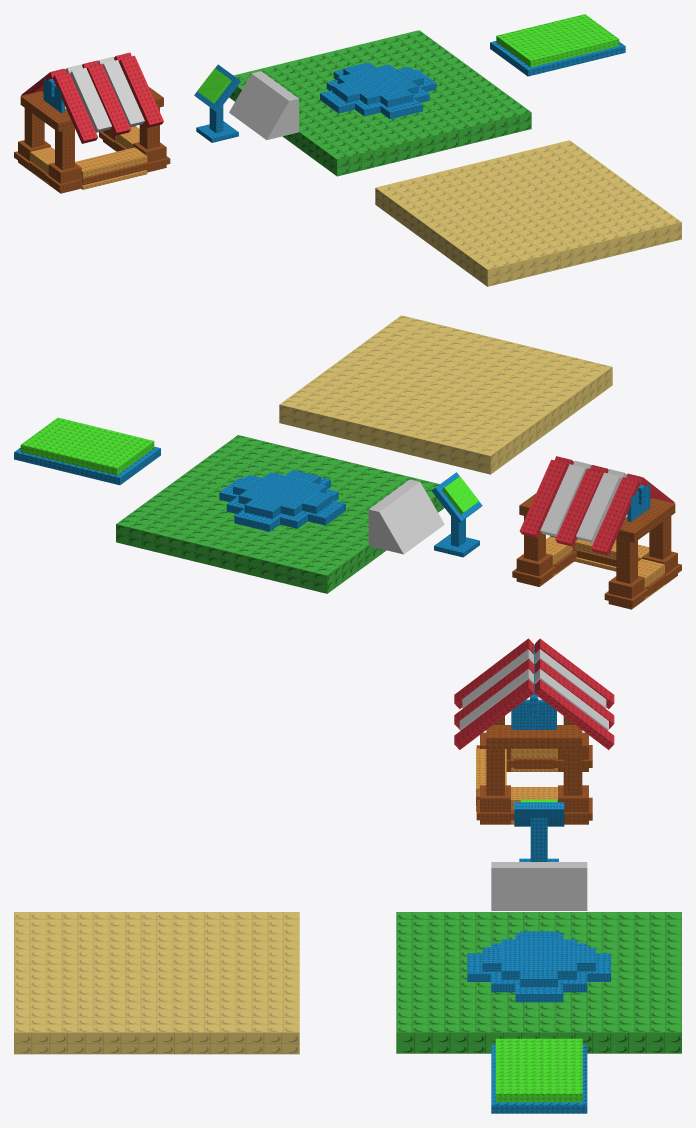
Rendered from assets.fbx.
The picture shows the model from 3 angles, top to bottom: view 1: azimuth 30°, elevation 25°; view 2: azimuth 150°, elevation 25°; view 3: azimuth 270°, elevation 25°; orthographic projection. The views are drawn at different scales.
Parts seen in each view (by area): view 1: Plane.001, Plane, Cube.009, Cube.038, Cube.003, Cube.004, Cube.001, Cube.007, Cube, Cube.002, Cube.006, Cube.005; view 2: Plane.001, Plane, Cube.009, Cube.038, Cube.003, Cube.004, Cube.001, Cube.007, Cube, Cube.002, Cube.006, Cube.005; view 3: Plane.001, Plane, Cube.009, Cube.038, Cube.003, Cube.004, Cube.001, Cube, Cube.007, Cube.002, Cube.005, Cube.006.
Boxes of the visible parts, <box> form: Plane.001: <box>375,140,681,286</box>; Plane: <box>229,30,531,176</box>; Cube.009: <box>14,78,170,193</box>; Cube.038: <box>21,52,163,143</box>; Cube.003: <box>496,14,619,67</box>; Cube.004: <box>229,71,298,139</box>; Cube.001: <box>332,62,423,107</box>; Cube.007: <box>194,64,240,142</box>; Cube: <box>320,67,436,119</box>; Cube.002: <box>490,41,625,76</box>; Cube.006: <box>65,64,111,132</box>; Cube.005: <box>98,56,144,126</box>; Plane.001: <box>279,315,612,474</box>; Plane: <box>116,435,444,593</box>; Cube.009: <box>512,484,681,609</box>; Cube.038: <box>519,456,674,555</box>; Cube.003: <box>20,417,154,475</box>; Cube.004: <box>368,479,444,554</box>; Cube.001: <box>233,470,332,518</box>; Cube.007: <box>431,472,482,557</box>; Cube: <box>219,474,345,531</box>; Cube.002: <box>14,446,160,485</box>; Cube.006: <box>576,469,626,542</box>; Cube.005: <box>540,460,591,536</box>; Plane.001: <box>14,912,299,1054</box>; Plane: <box>396,912,681,1053</box>; Cube.009: <box>476,645,592,824</box>; Cube.038: <box>454,638,614,749</box>; Cube.003: <box>495,1038,582,1102</box>; Cube.004: <box>491,862,587,910</box>; Cube.001: <box>482,931,595,987</box>; Cube: <box>467,933,610,1002</box>; Cube.007: <box>514,799,564,861</box>; Cube.002: <box>491,1044,587,1113</box>; Cube.005: <box>459,669,608,730</box>; Cube.006: <box>462,649,606,708</box>.
Size of the model in its own units: 17.5 by 3.5 by 13.92.
